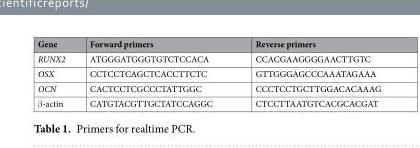table: (36, 37, 380, 109)
table column: (76, 37, 233, 109), (233, 37, 380, 109), (36, 37, 76, 109)
table column header: (36, 37, 380, 50)
table row: (36, 50, 380, 65), (36, 65, 380, 80), (36, 80, 380, 95), (36, 95, 380, 109), (36, 37, 380, 50)
